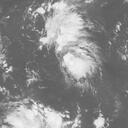cyclone: (46, 15, 101, 81)
